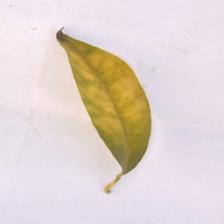greening: (67, 43, 146, 143)
